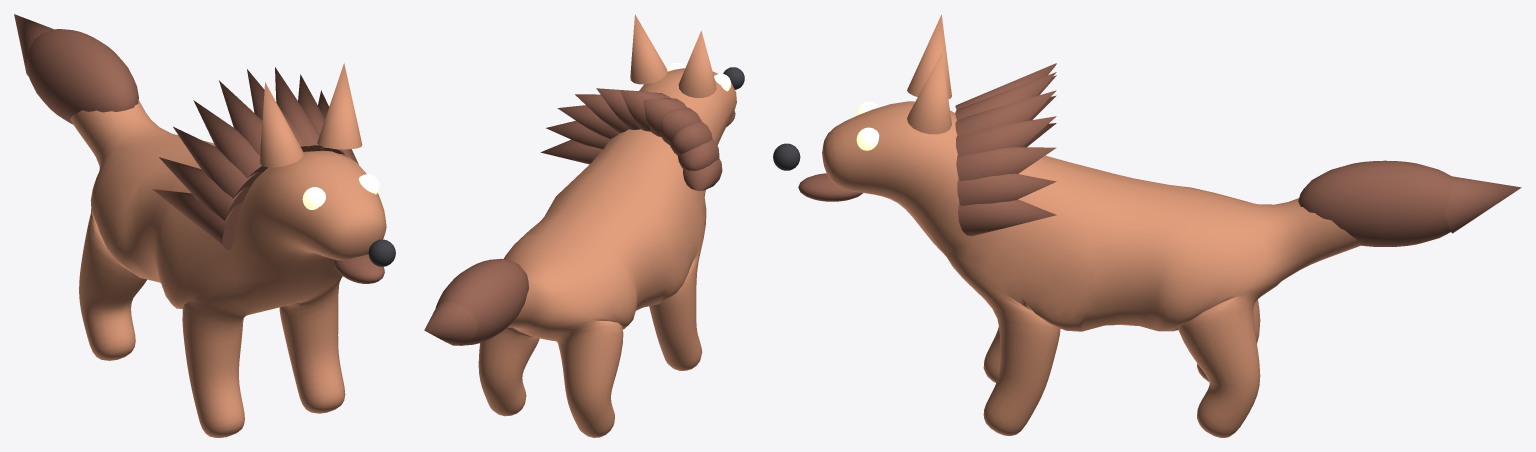
File: wolf.glb
3 views of the same model, side by side, from view 1: azimuth 30°, elevation 25°; view 2: azimuth 150°, elevation 25°; view 3: azimuth 270°, elevation 25° (orthographic). The views are drawn at different scales.
Parts seen in each view (by area): view 1: skin; view 2: skin; view 3: skin.
Boxes of the visible parts, box(x1,y1,x2,y2) form: skin: box(14, 14, 395, 437); skin: box(424, 14, 744, 437); skin: box(773, 14, 1521, 437).
Bounding box in the file's own units: 0.5255 × 1 × 1.8.
